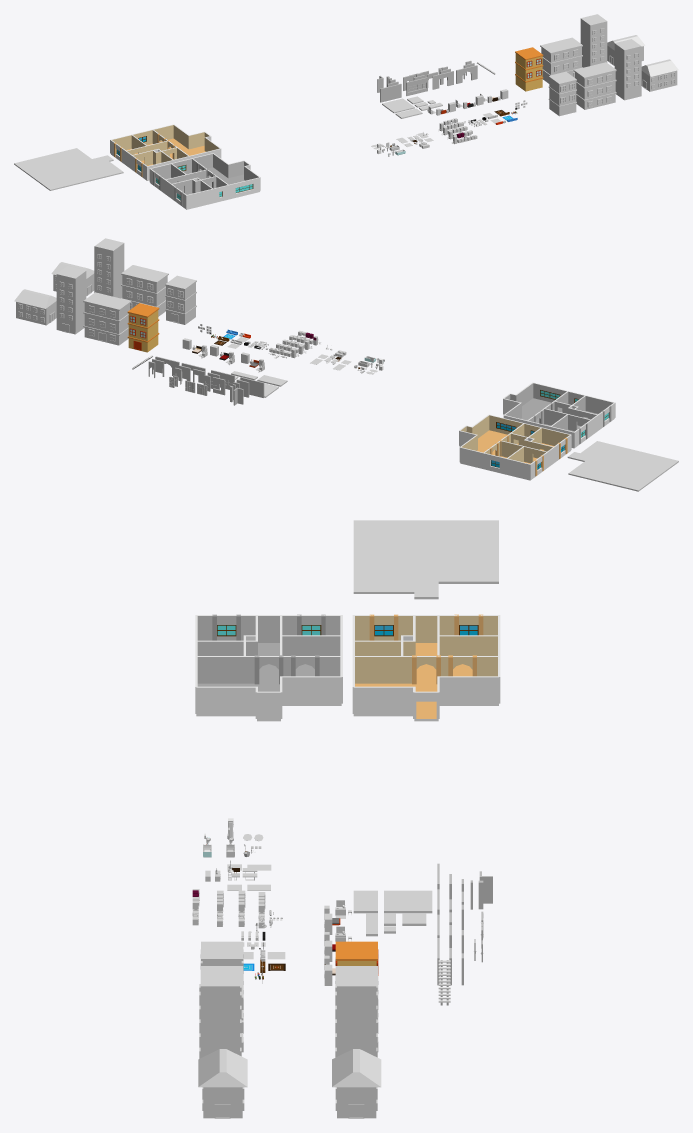
Rendered from Low Poly Modern.fbx.
The picture shows the model from 3 angles, top to bottom: view 1: azimuth 30°, elevation 25°; view 2: azimuth 150°, elevation 25°; view 3: azimuth 270°, elevation 25°; orthographic projection. The views are drawn at different scales.
Visible parts, largest first — view 1: Demo Interior 2, Demo Interior 1, Floor 2x4.004, City Building 6, City Building 7, City Building 2, City Building 3, City Building 5, City Building 1, City Building 8, City Building 4, Wall Long; view 2: Demo Interior 1, Demo Interior 2, Floor 2x4.004, City Building 2, City Building 3, City Building 6, City Building 7, City Building 1, City Building 5, City Building 4, City Building 8; view 3: Demo Interior 1, Demo Interior 2, Floor 2x4.004, City Building 3, City Building 7, City Building 4, City Building 8, Floor 8x8, City Building 5, City Building 1.
Boxes of the visible parts, x1,y1,x2,y2 form: Demo Interior 2: [149, 153, 260, 209]; Demo Interior 1: [110, 124, 221, 180]; Floor 2x4.004: [14, 148, 123, 190]; City Building 6: [573, 62, 616, 109]; City Building 7: [614, 39, 641, 100]; City Building 2: [540, 37, 582, 83]; City Building 3: [580, 14, 607, 67]; City Building 5: [548, 72, 576, 116]; City Building 1: [515, 47, 543, 91]; City Building 8: [641, 59, 678, 91]; City Building 4: [607, 35, 645, 65]; Wall Long: [380, 83, 401, 102]; Demo Interior 1: [459, 414, 571, 480]; Demo Interior 2: [503, 382, 615, 448]; Floor 2x4.004: [567, 441, 678, 491]; City Building 2: [83, 292, 131, 345]; City Building 3: [56, 266, 86, 334]; City Building 6: [121, 265, 168, 316]; City Building 7: [94, 238, 124, 298]; City Building 1: [127, 303, 159, 352]; City Building 5: [165, 275, 196, 324]; City Building 4: [14, 289, 56, 325]; City Building 8: [51, 262, 94, 295]; Demo Interior 1: [352, 614, 500, 721]; Demo Interior 2: [195, 614, 342, 721]; Floor 2x4.004: [353, 520, 498, 599]; City Building 3: [335, 969, 377, 1057]; City Building 7: [199, 969, 241, 1058]; City Building 4: [332, 1049, 381, 1118]; City Building 8: [198, 1049, 247, 1118]; Floor 8x8: [384, 890, 432, 913]; City Building 5: [200, 941, 243, 975]; City Building 1: [335, 941, 378, 975].
Size of the model in its own units: 225 by 18.84 by 50.81.
